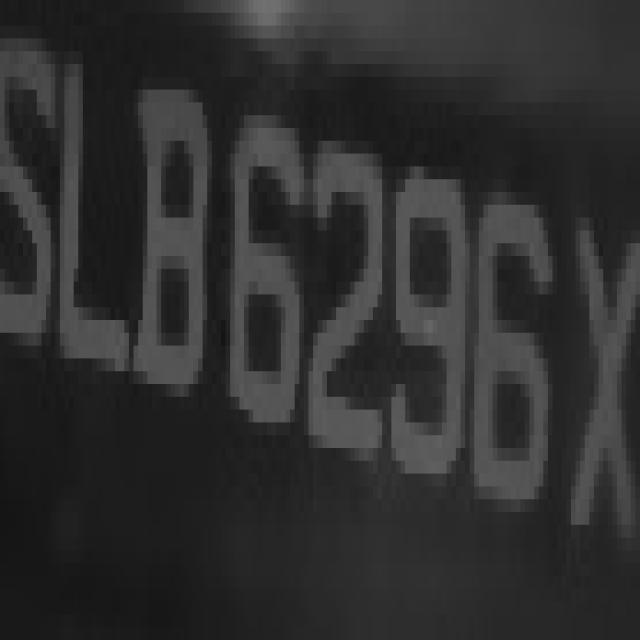2: (304, 90, 382, 499)
6: (470, 115, 557, 576), (225, 38, 304, 461)
9: (378, 90, 465, 524)
B: (138, 12, 217, 410)
L: (60, 0, 138, 397)
S: (0, 13, 55, 384)
X: (552, 127, 640, 614)
